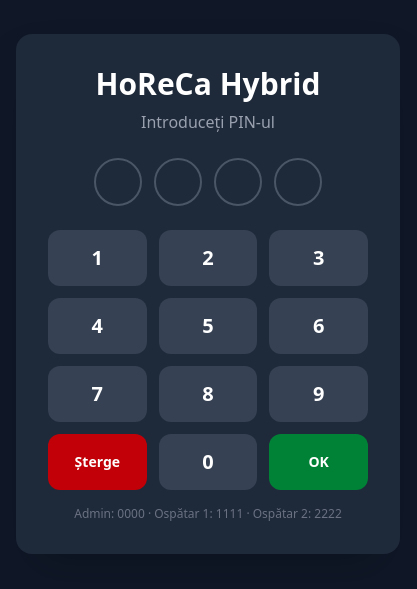
Test: LoginPage › shows error when submitting less than 4 digits
The width and height of the screenshot is (417, 589).
Step 1. Click the button "1" → click(97, 258), box [48,230,147,286]
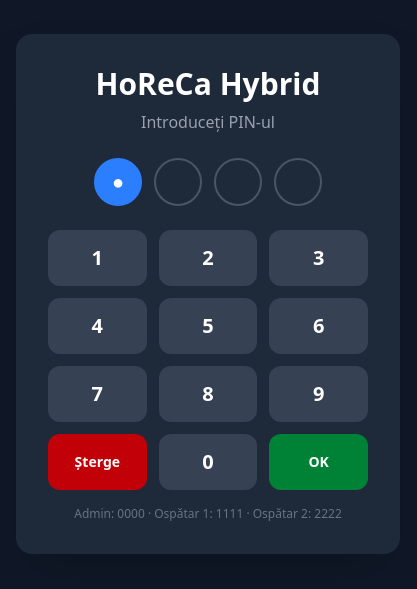
Step 2. Click the button "OK" → click(319, 462), box [269,434,368,490]
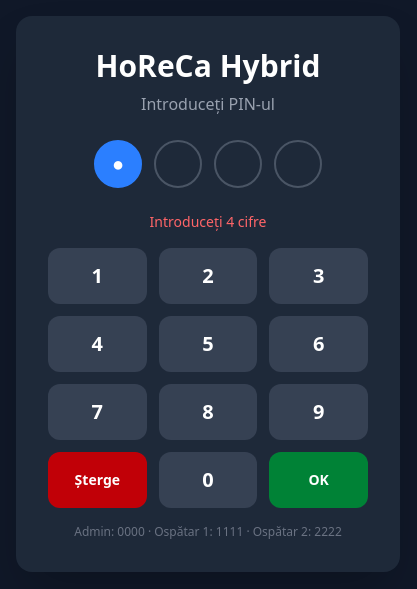
expect the text "Introduceți 4 cifre" is shown: met, box [150,212,266,231]
